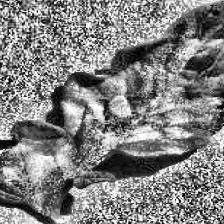Anthracnose Fruit Rot: (129, 112, 199, 144), (61, 86, 103, 122), (24, 149, 70, 180)
